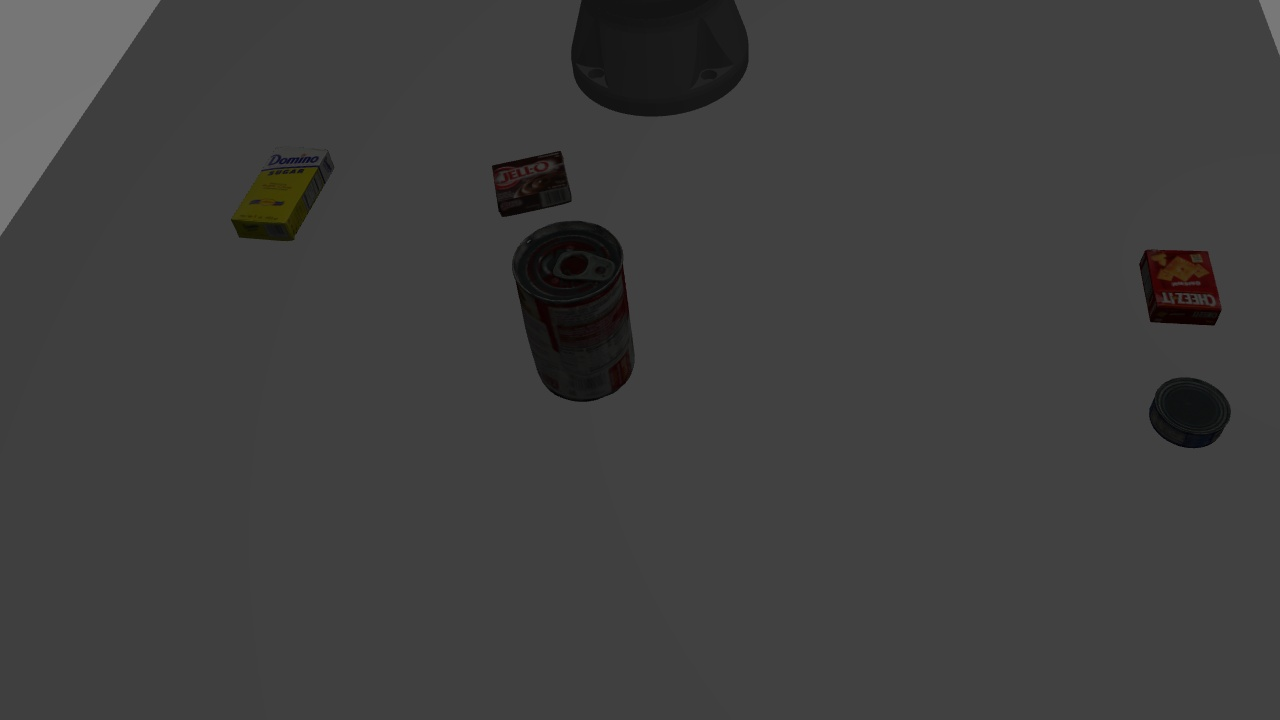pudding_box: (488, 146, 573, 218)
sugar_box: (228, 141, 335, 245)
tomato_soup_can: (510, 214, 640, 404)
tuna_fish_can: (1141, 381, 1164, 453)
